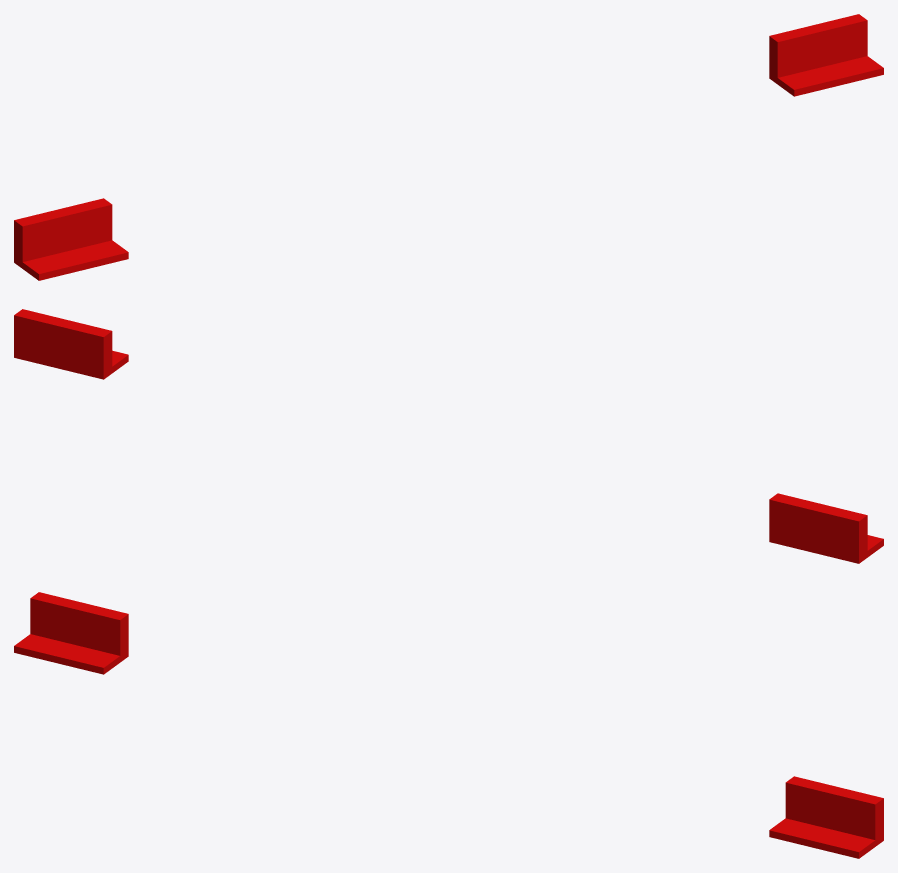
Rendered from SM_MainDoorWallSkirtingCollider.fbx.
The picture shows the model from 3 angles, top to bottom: view 1: azimuth 30°, elevation 25°; view 2: azimuth 150°, elevation 25°; view 3: azimuth 330°, elevation 25°; orthographic projection.
Parts seen in each view (by area): view 1: MainDoorWallSkirtingCollision; view 2: MainDoorWallSkirtingCollision; view 3: MainDoorWallSkirtingCollision.
Boxes of the visible parts, bbox=[...] form: MainDoorWallSkirtingCollision: bbox=[14, 14, 883, 280]; MainDoorWallSkirtingCollision: bbox=[14, 309, 883, 563]; MainDoorWallSkirtingCollision: bbox=[14, 592, 883, 858].
Bounding box in the file's own units: 400 × 19.2 × 20.48.
